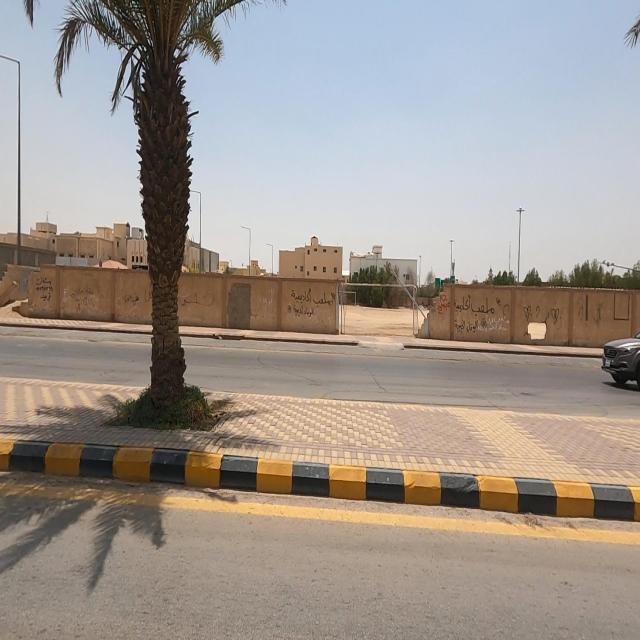Graffiti: (454, 296, 510, 335), (289, 290, 336, 318), (179, 293, 216, 311), (72, 287, 95, 311), (37, 277, 54, 303), (261, 289, 274, 314), (438, 294, 451, 317), (525, 305, 542, 321), (593, 307, 605, 328), (121, 294, 139, 307), (551, 307, 561, 325), (578, 307, 586, 324), (145, 290, 153, 305)
